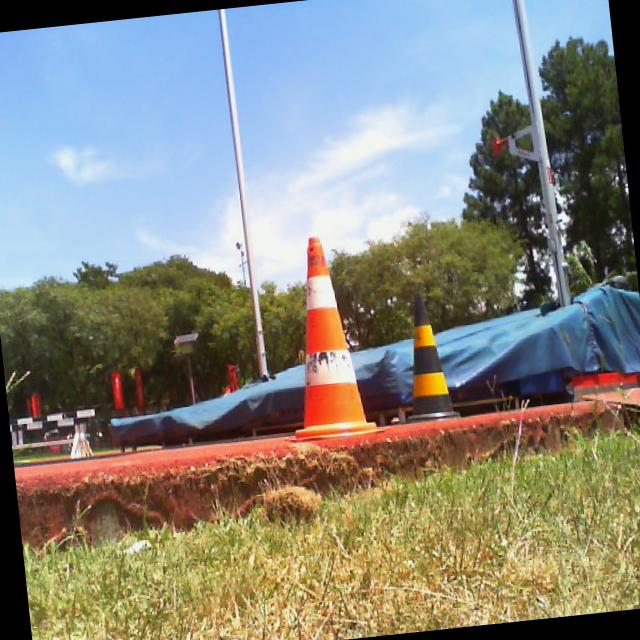cone: (264, 230, 388, 442), (395, 291, 461, 424)
